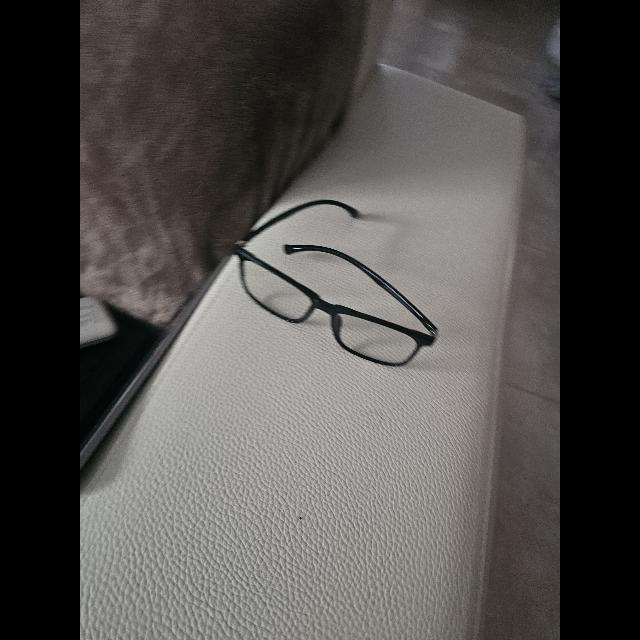glasses: (235, 200, 438, 366)
